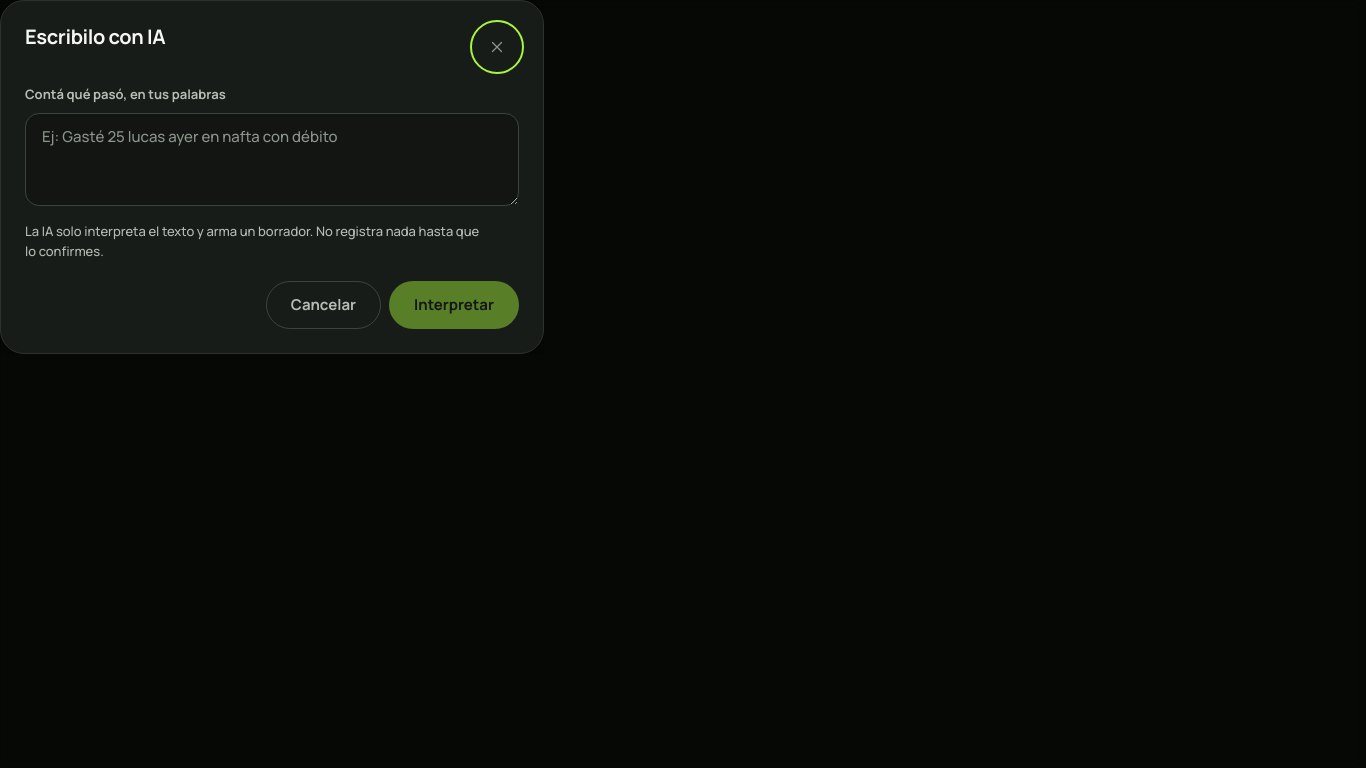
Test: AITransactionDialog › muestra el mensaje de timeout de la IA y no el de backend apagado
Type "Gasté 25 lucas" into the text box labelled "Contá qué pasó, en tus palabras" at (272, 159), box [25,112,519,206]
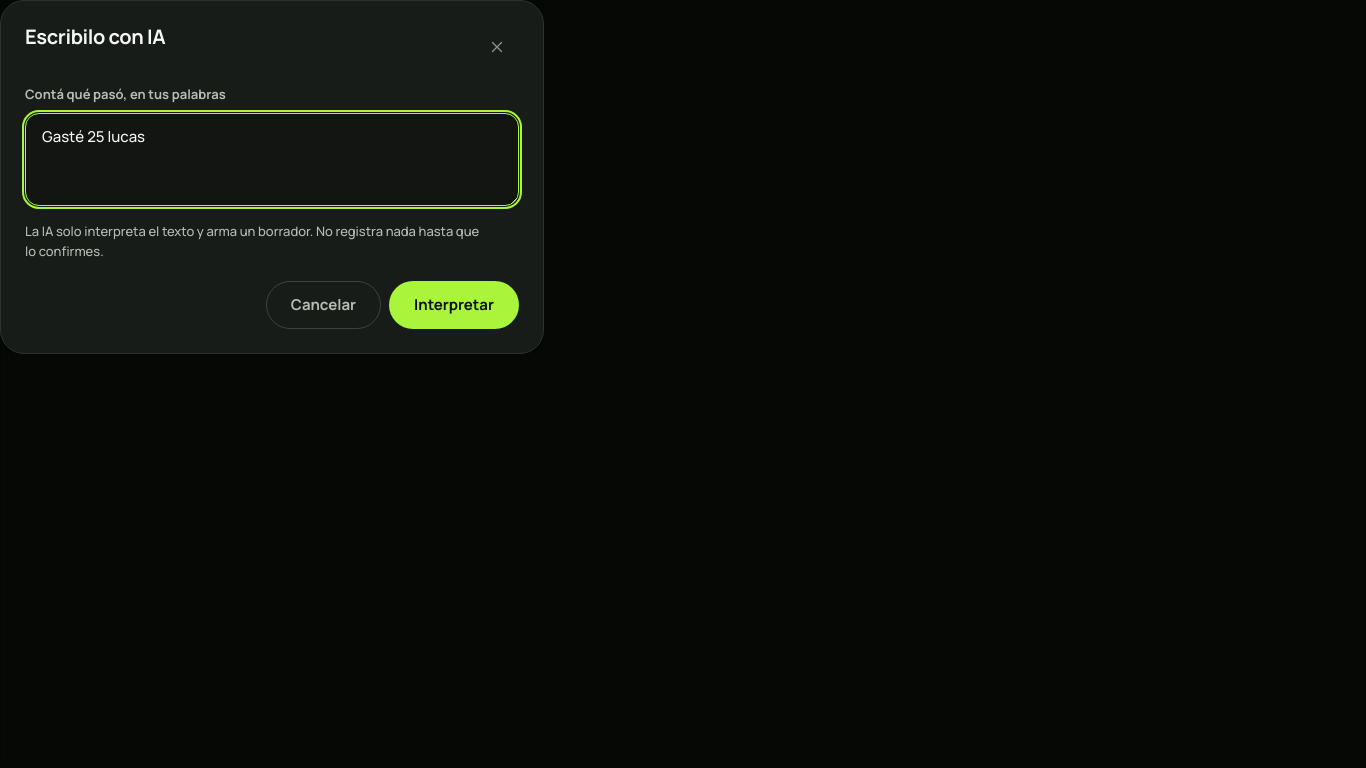
Click the button "Interpretar" at (454, 305), box [389,281,519,329]
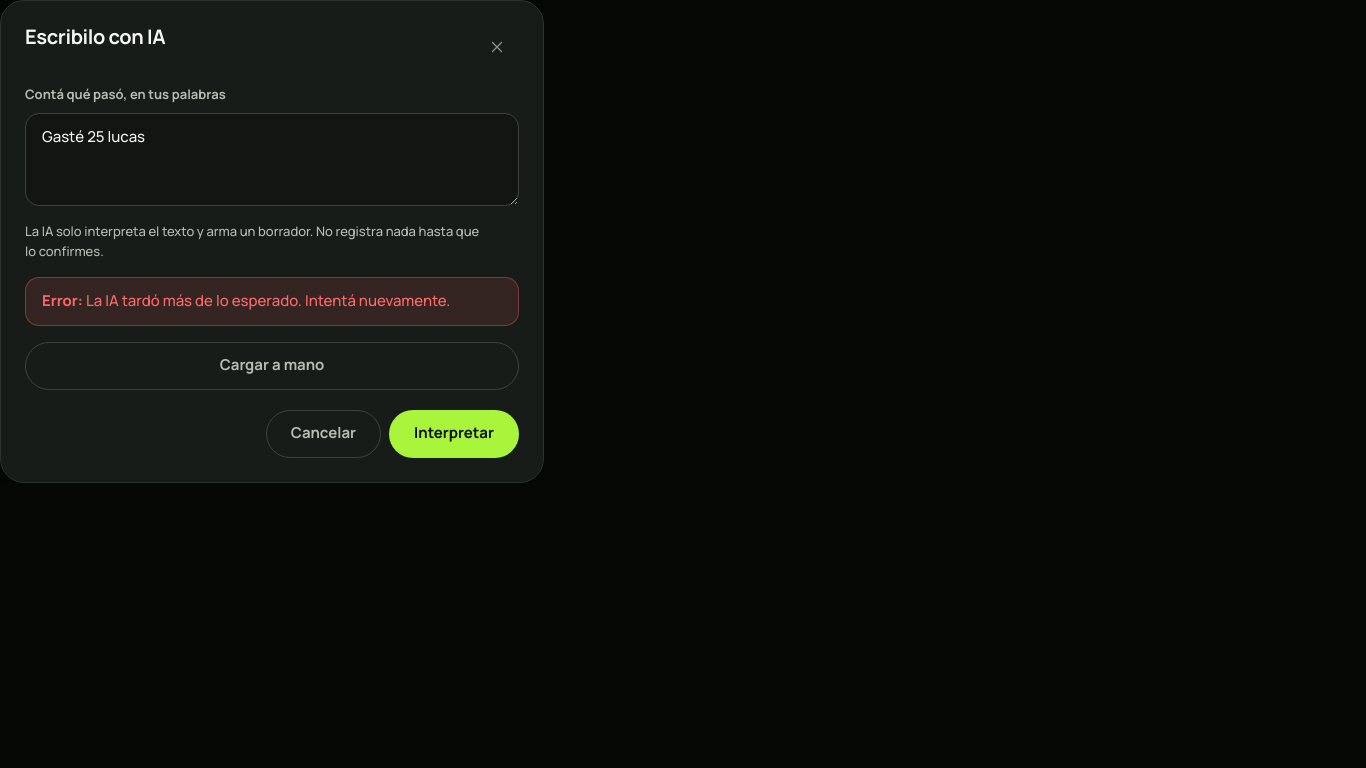
Expected: the button "Interpretar" is enabled, [389,410,519,458]
Expected: the message shows "La IA tardó más de lo esperado", [86,290,450,311]
